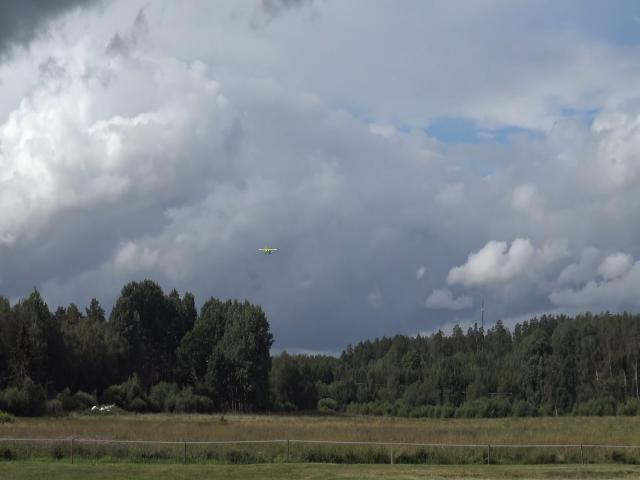plane: (258, 245, 278, 256)
